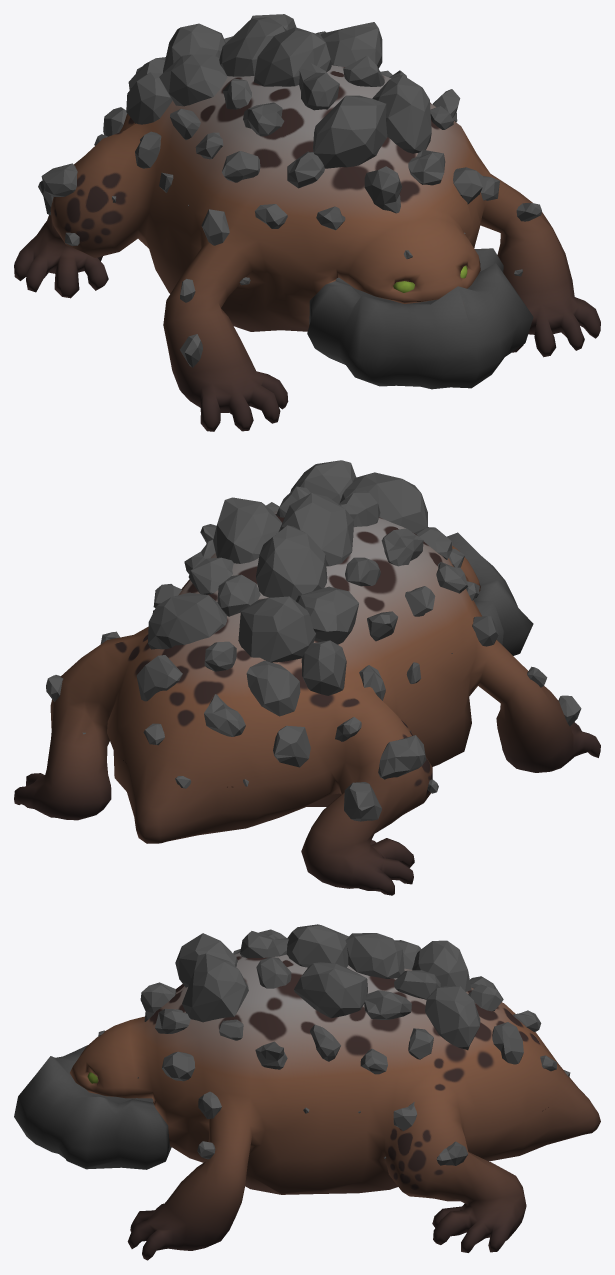
The model's file is gromp_unfinished.fbx.
3 renders of one model, top to bottom at view 1: azimuth 30°, elevation 25°; view 2: azimuth 150°, elevation 25°; view 3: azimuth 270°, elevation 25°, orthographic. The views are drawn at different scales.
Visible parts, largest first — view 1: lp.001; view 2: lp.001; view 3: lp.001.
Boxes of the visible parts, x1=… form: lp.001: x1=14, y1=14, x2=600, y2=431; lp.001: x1=14, y1=460, x2=600, y2=895; lp.001: x1=14, y1=924, x2=600, y2=1260.
Bounding box in the file's own units: 470 × 321 × 683.
Materials: 2 (1 with a texture image).
